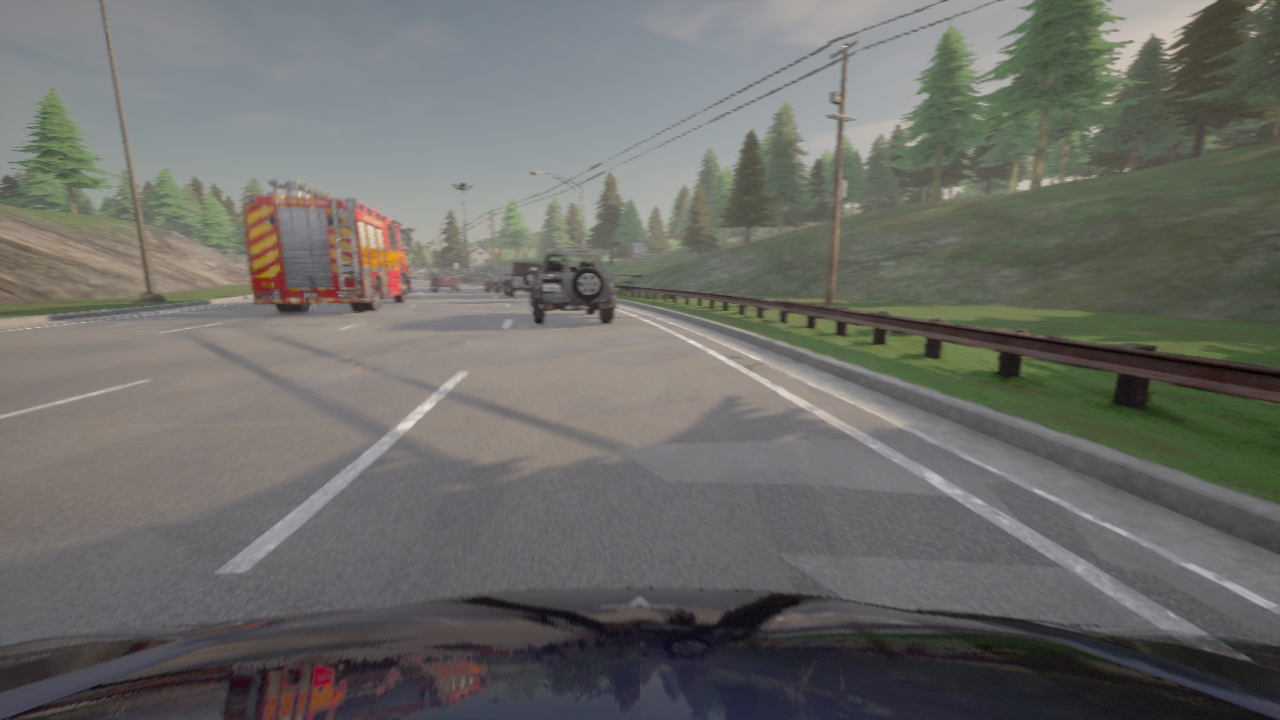cyclist: (0, 588, 1279, 719), (243, 178, 412, 312), (530, 248, 616, 324), (503, 261, 540, 297), (485, 267, 528, 292), (429, 269, 459, 291)
